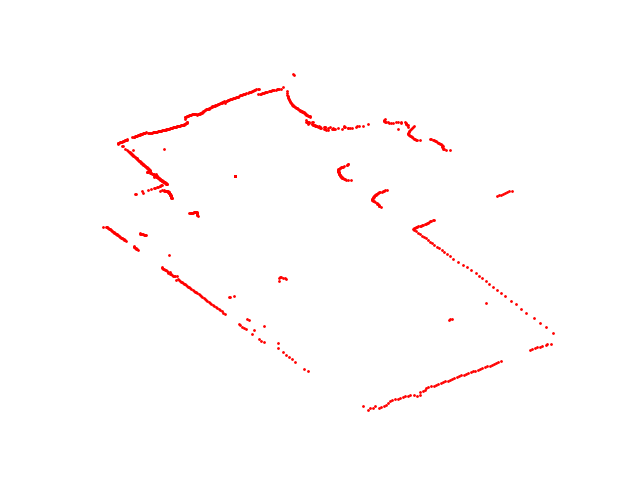person: (335, 160, 391, 209)
